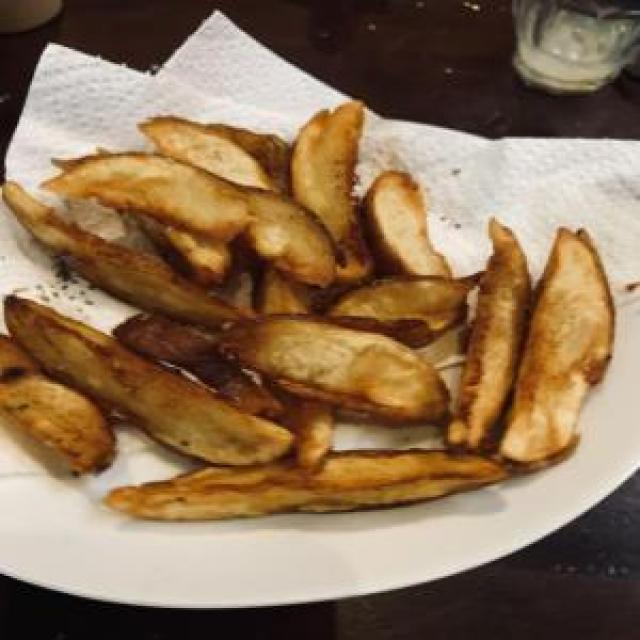French Fries: (5, 126, 639, 518)
